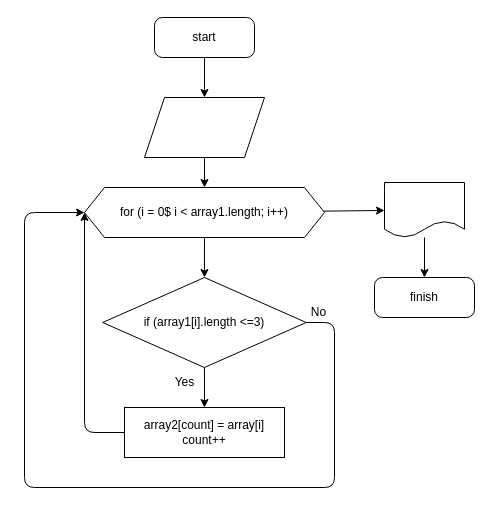
Some shapes in this 492 by 513 pixel diagram are drawn without their labels. The shapes that lost their labels are listed below. From the top down, each one's centre as x and y in pixels, then its label:
the point at 204,127: array1[] array2[] count=0
the point at 424,210: array2[count]
